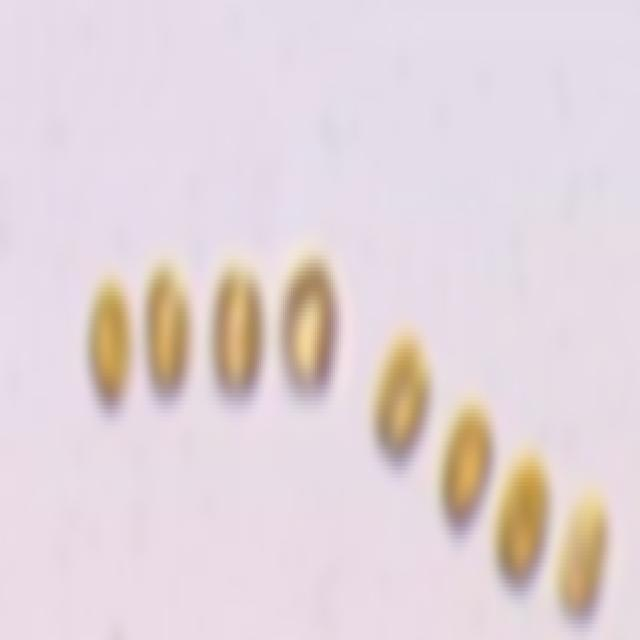Skeletonema: (81, 234, 623, 629)
